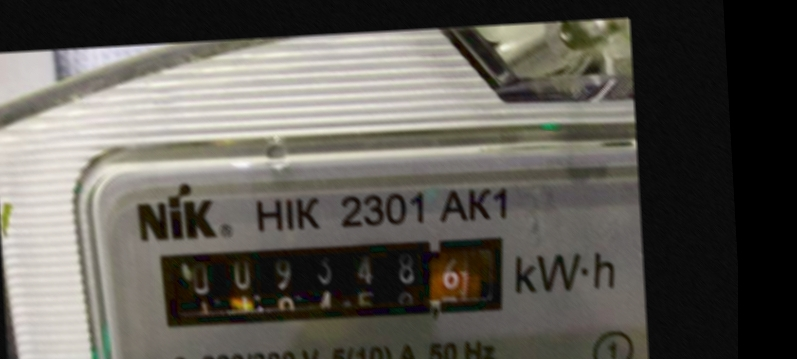0: (228, 256, 251, 293), (187, 260, 209, 296)
3: (310, 252, 334, 285)
4: (350, 250, 373, 288)
6: (437, 255, 461, 290)
8: (393, 249, 415, 285)
9: (271, 254, 291, 289)
screen: (134, 221, 524, 344)
